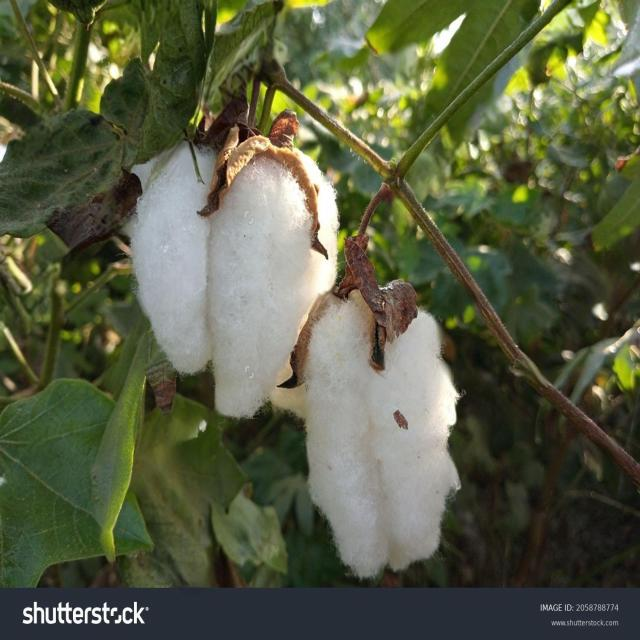Leaf: (119, 134, 351, 441), (274, 274, 470, 581)
